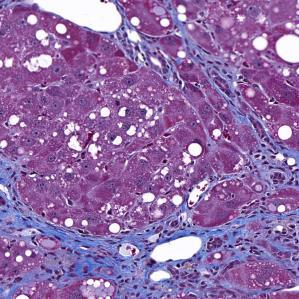fibrosis: (181, 209, 298, 269), (173, 46, 254, 119), (64, 230, 151, 288), (244, 139, 299, 192)
